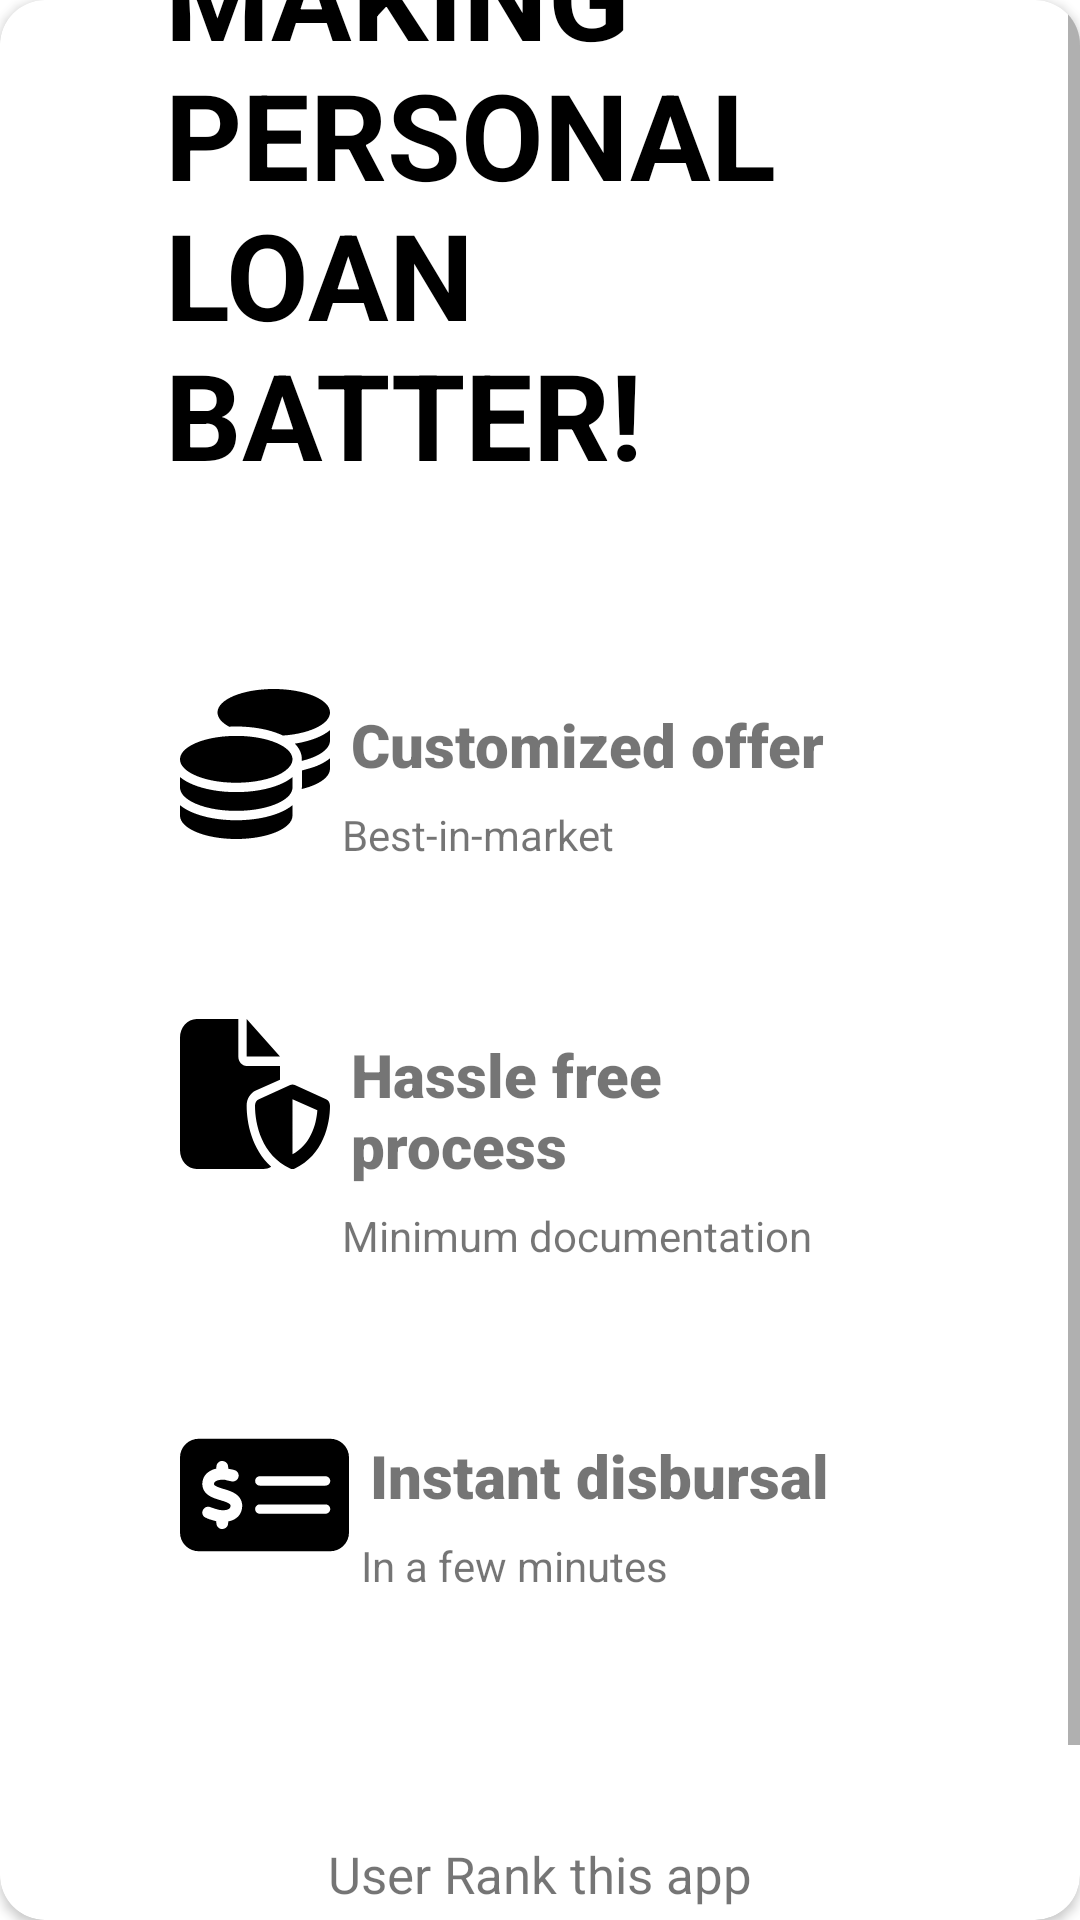

Locate icon controls on the screen. Image size 1080×1920, boxes as (x1,y1,x2,y2).
coins: (180,689,330,839)
file shield: (180,1019,330,1169)
money check dollar: (180,1438,349,1552)
